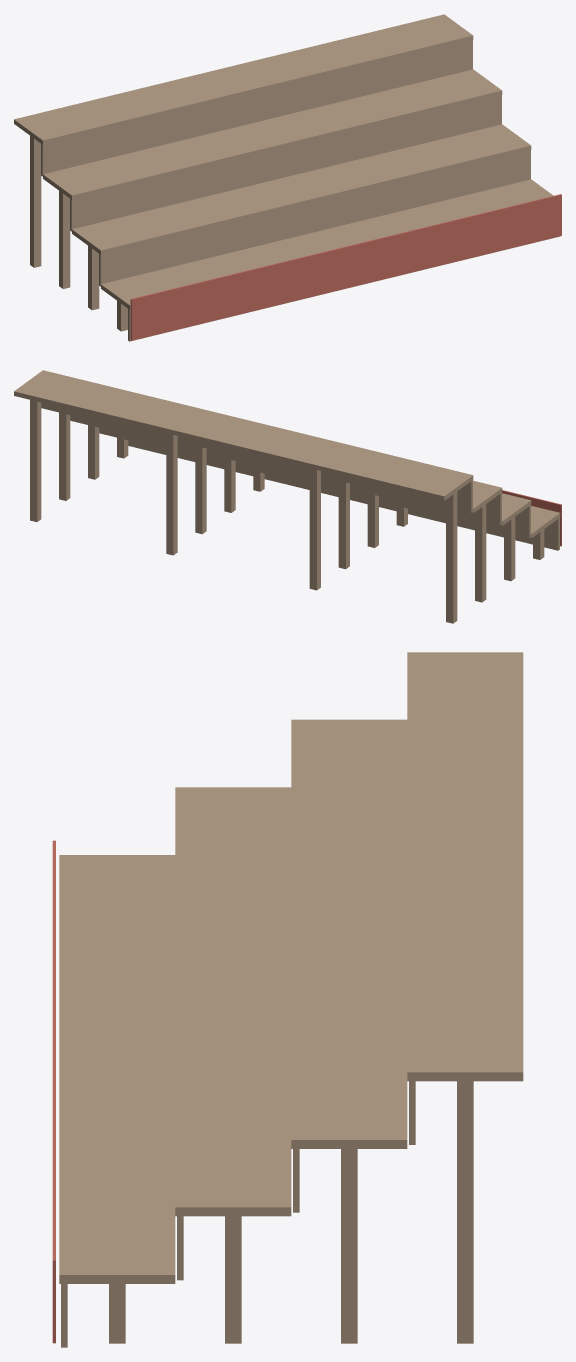
The model's file is tribune.glb.
The picture shows the model from 3 angles, top to bottom: view 1: azimuth 30°, elevation 25°; view 2: azimuth 150°, elevation 25°; view 3: azimuth 270°, elevation 25°; orthographic projection. The views are drawn at different scales.
Parts seen in each view (by area): view 1: tribune, tribune_drape; view 2: tribune, tribune_drape; view 3: tribune, tribune_drape.
Boxes of the visible parts, bbox=[...] form: tribune: bbox=[14, 14, 559, 341]; tribune_drape: bbox=[130, 194, 561, 340]; tribune: bbox=[14, 370, 560, 623]; tribune_drape: bbox=[502, 490, 561, 546]; tribune: bbox=[59, 652, 523, 1347]; tribune_drape: bbox=[52, 840, 55, 1343].
Size of the model in its own units: 6 by 1.83 by 2.84.
